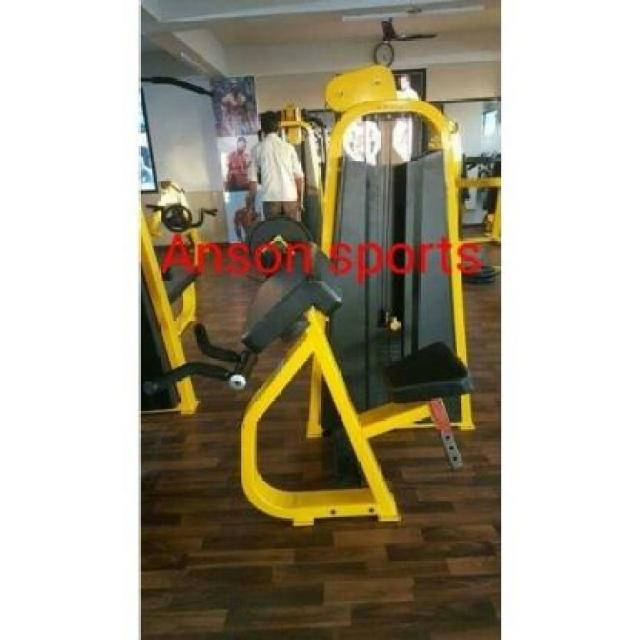arm curl machine: (144, 246, 476, 528)
